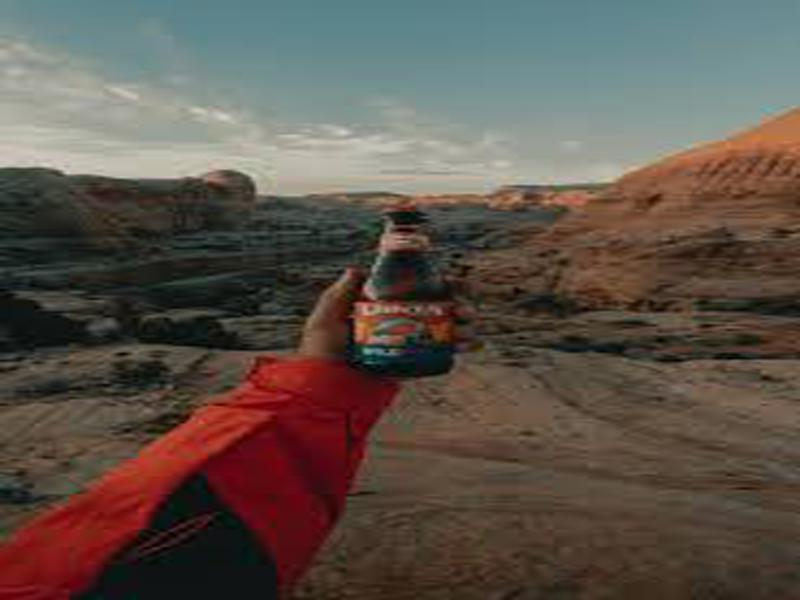Beer: (342, 210, 458, 375)
